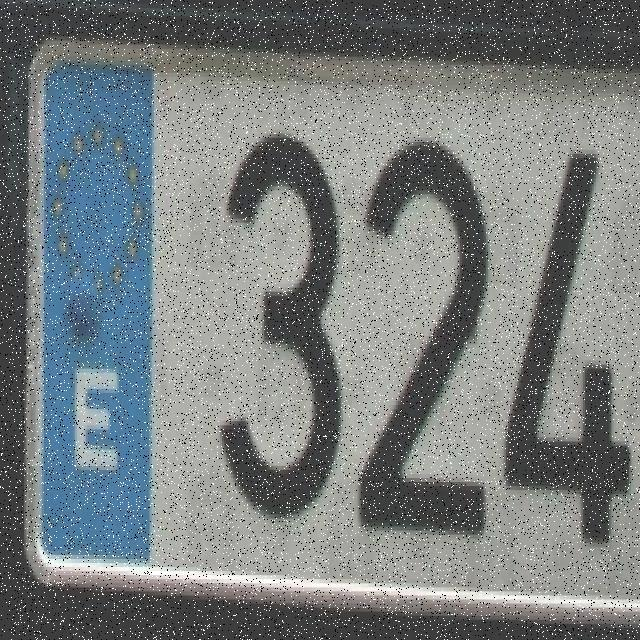LicensePlate: (14, 22, 638, 617)
